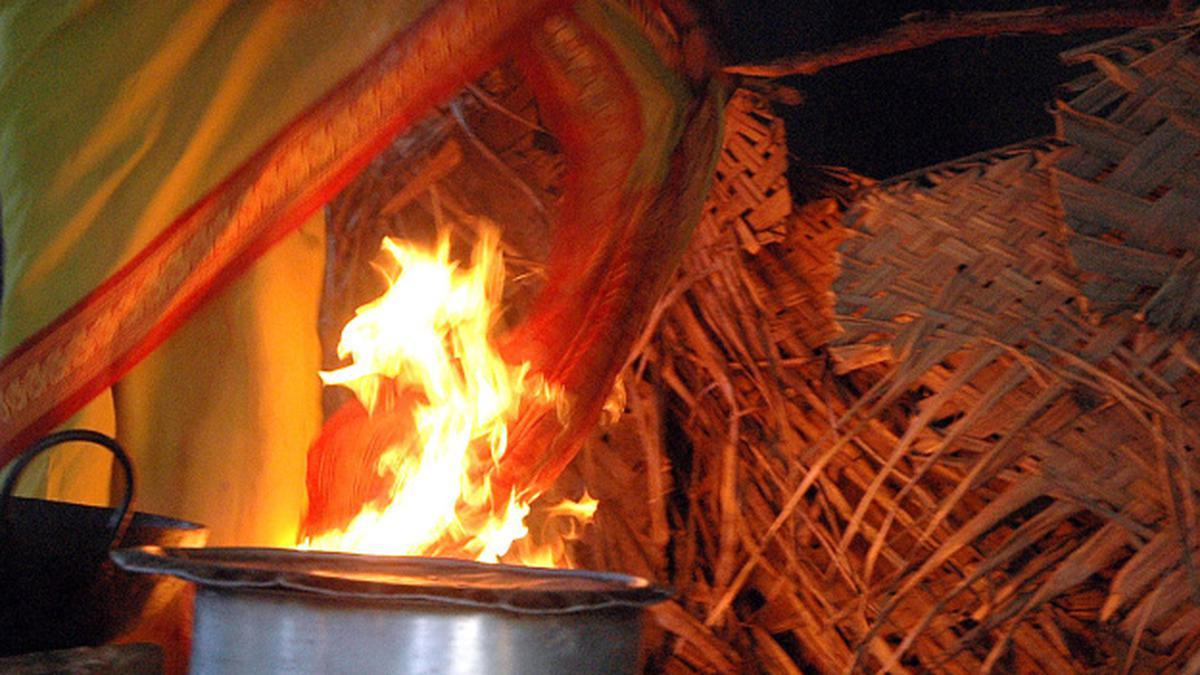fire: (288, 223, 630, 562)
